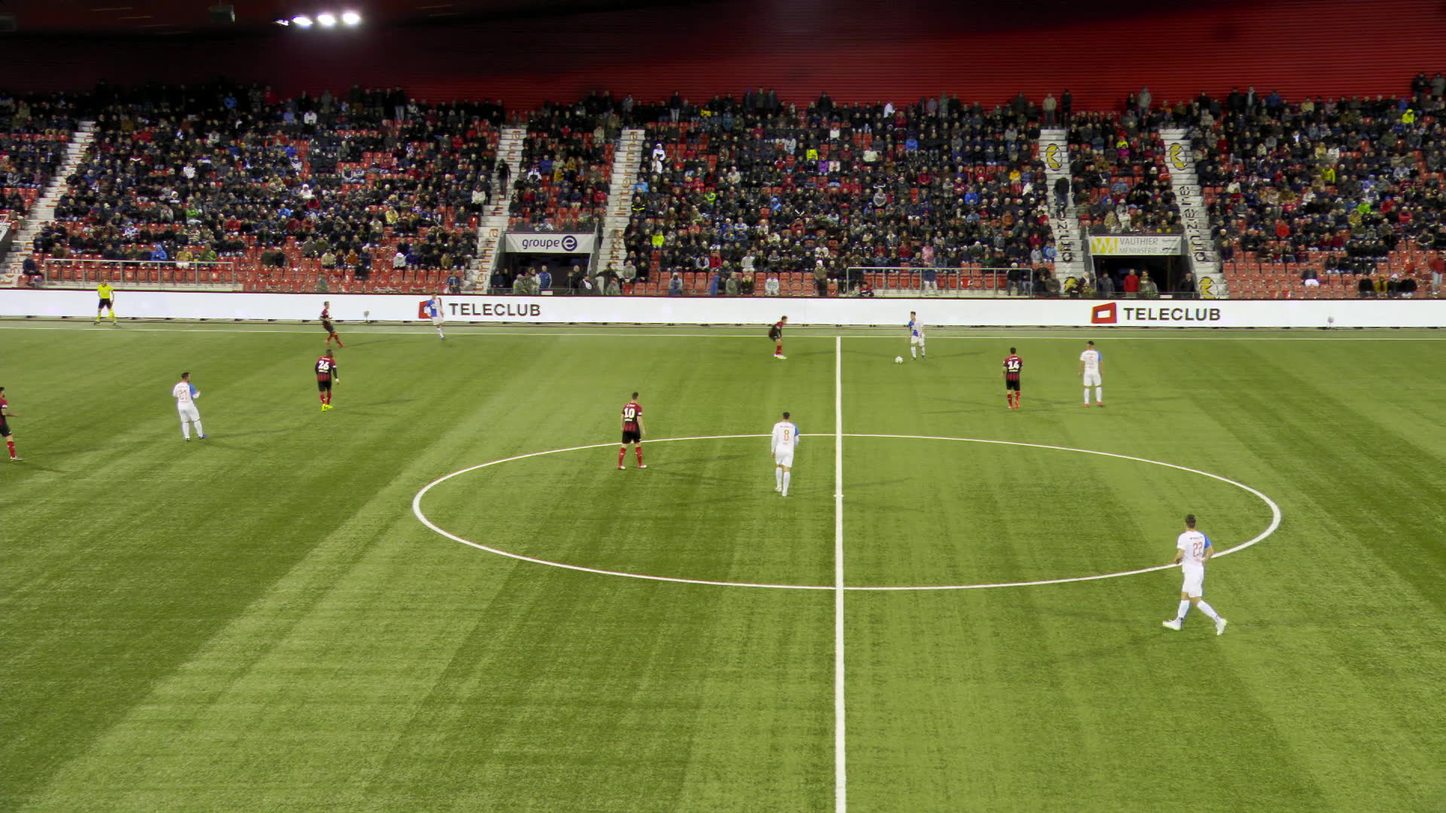ball: (892, 355, 901, 364)
player: (1160, 513, 1228, 638), (767, 413, 799, 498), (615, 390, 646, 470), (171, 370, 205, 442), (1078, 340, 1103, 408), (0, 385, 21, 461), (313, 347, 337, 411), (1000, 346, 1023, 412), (316, 301, 341, 347), (903, 310, 925, 359), (424, 292, 444, 340), (765, 315, 787, 358)
referee: (94, 279, 117, 325)
